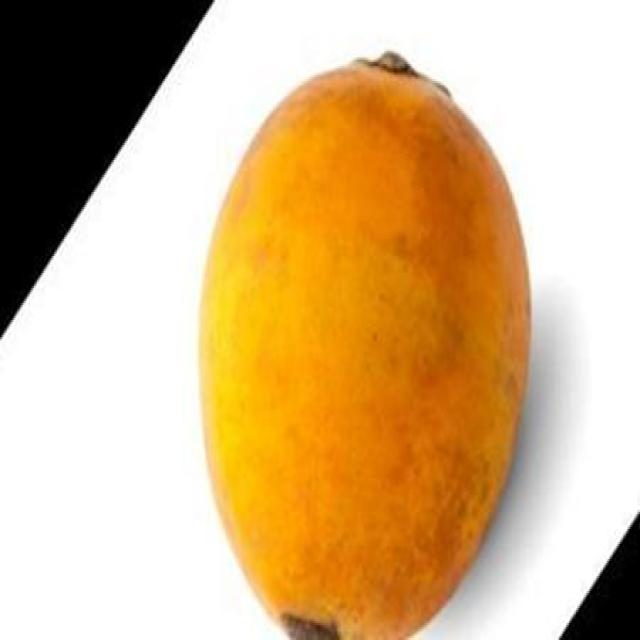good: (196, 53, 533, 638)
